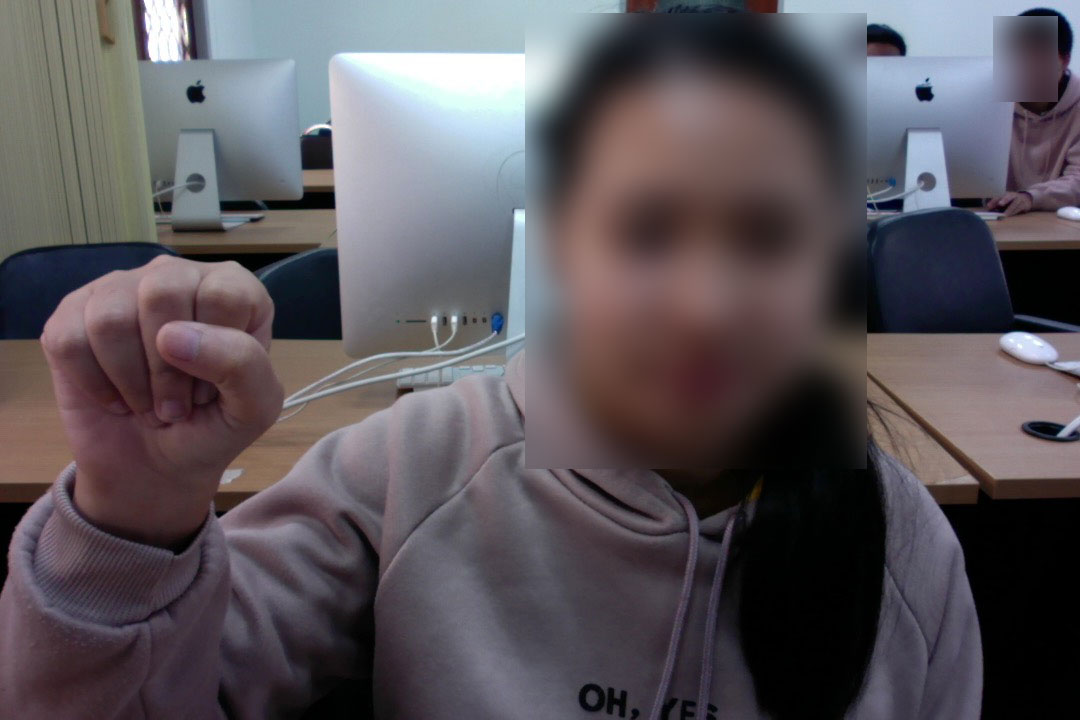sor: (38, 246, 289, 523)
